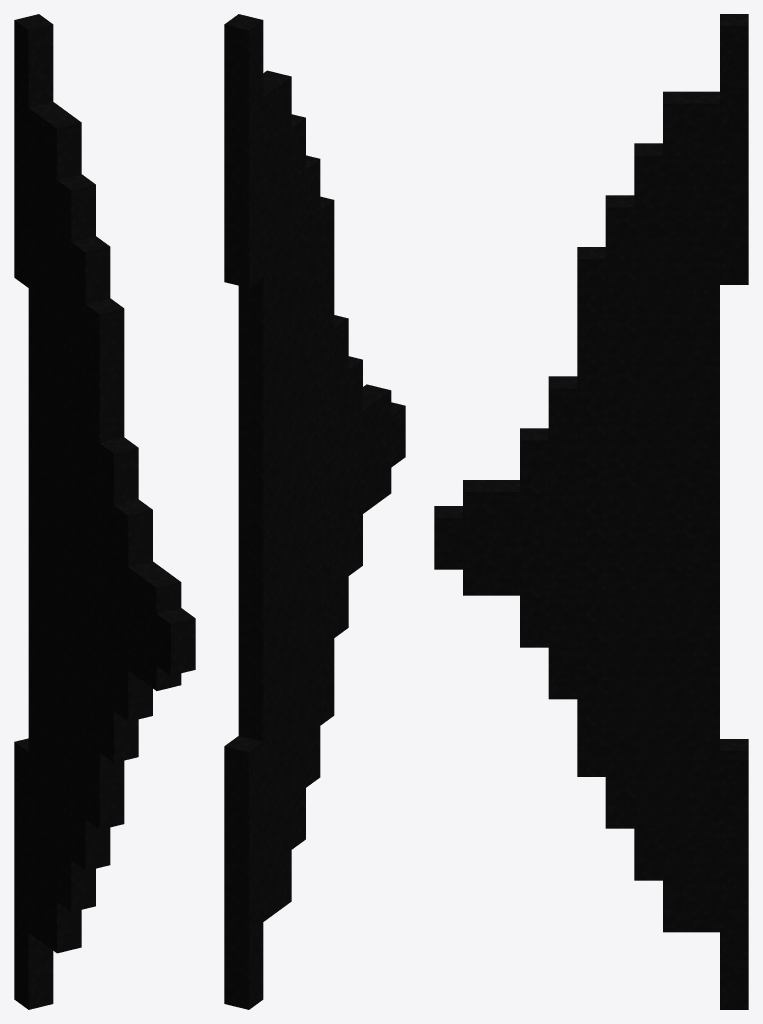
The model's file is black_slash.obj.
3 views of the same model, side by side, from view 1: azimuth 30°, elevation 25°; view 2: azimuth 150°, elevation 25°; view 3: azimuth 270°, elevation 25° (orthographic).
Parts seen in each view (by area): view 1: cube; view 2: cube; view 3: cube.
Boxes of the visible parts, x1,y1,x2,y2 form: cube: [14, 14, 195, 1009]; cube: [224, 14, 405, 1009]; cube: [434, 14, 748, 1009].
Size of the model in its own units: 0.0625 by 2.38 by 0.6875.
